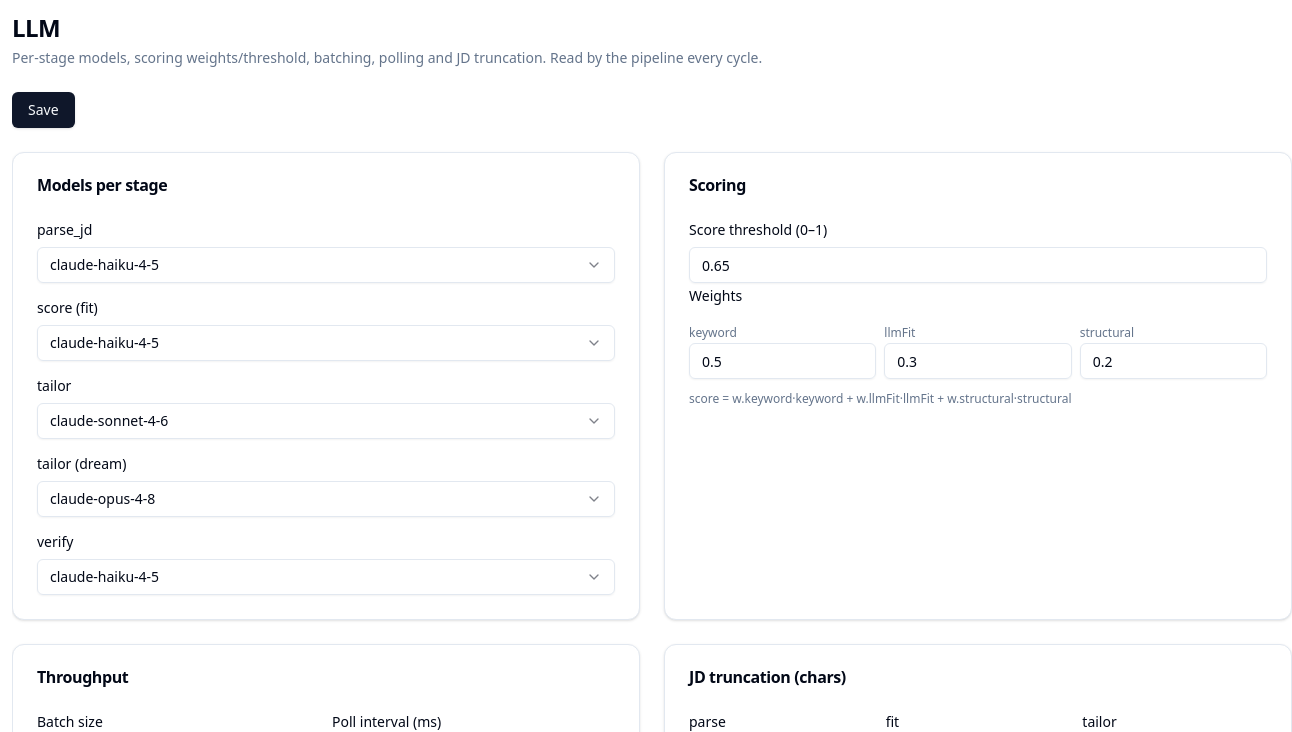
Test: LlmPage › loads the llm config and PUTs a Zod-valid payload on Save
The image size is (1292, 732).
Expected: the text "claude-haiku-4-5" is shown 3 times, [50, 255, 159, 275]; [50, 333, 159, 353]; [50, 567, 159, 587]
Click the button "Save".
click(43, 110)  # box [12, 92, 75, 128]
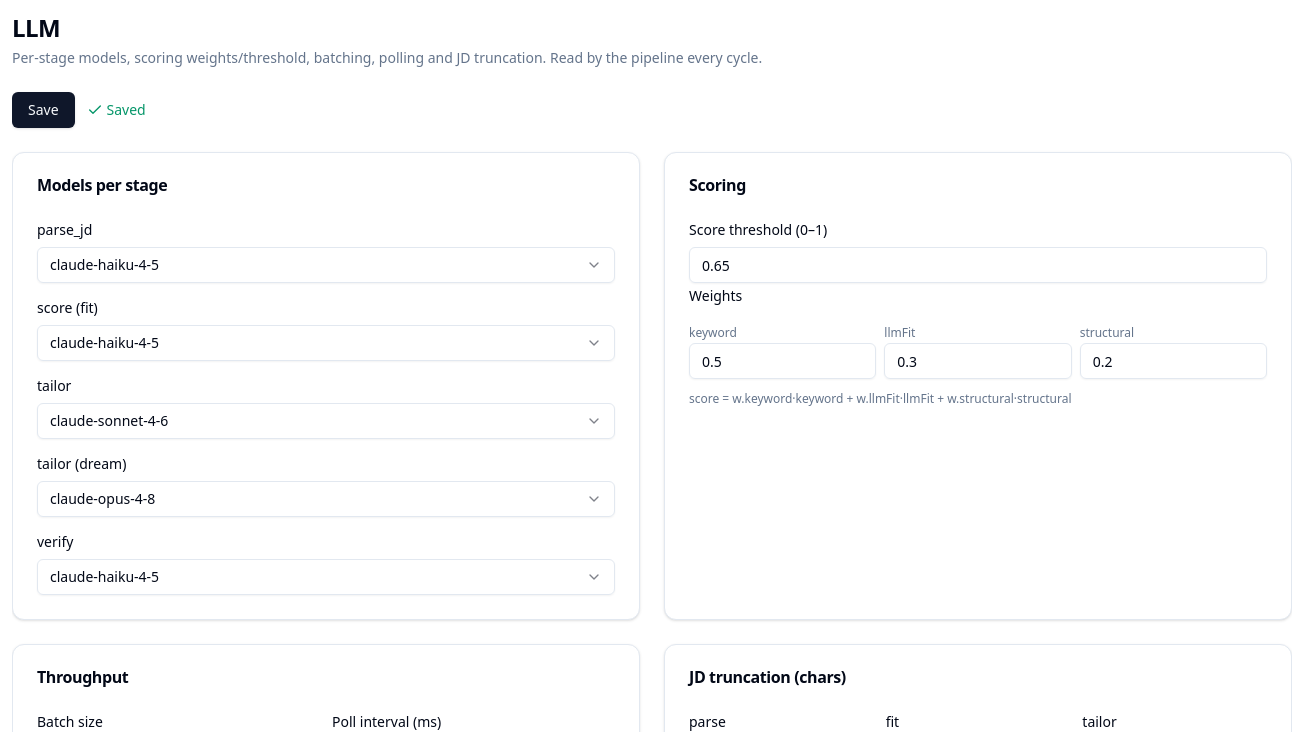
Now the text "Saved" is shown, box [87, 100, 146, 120]
